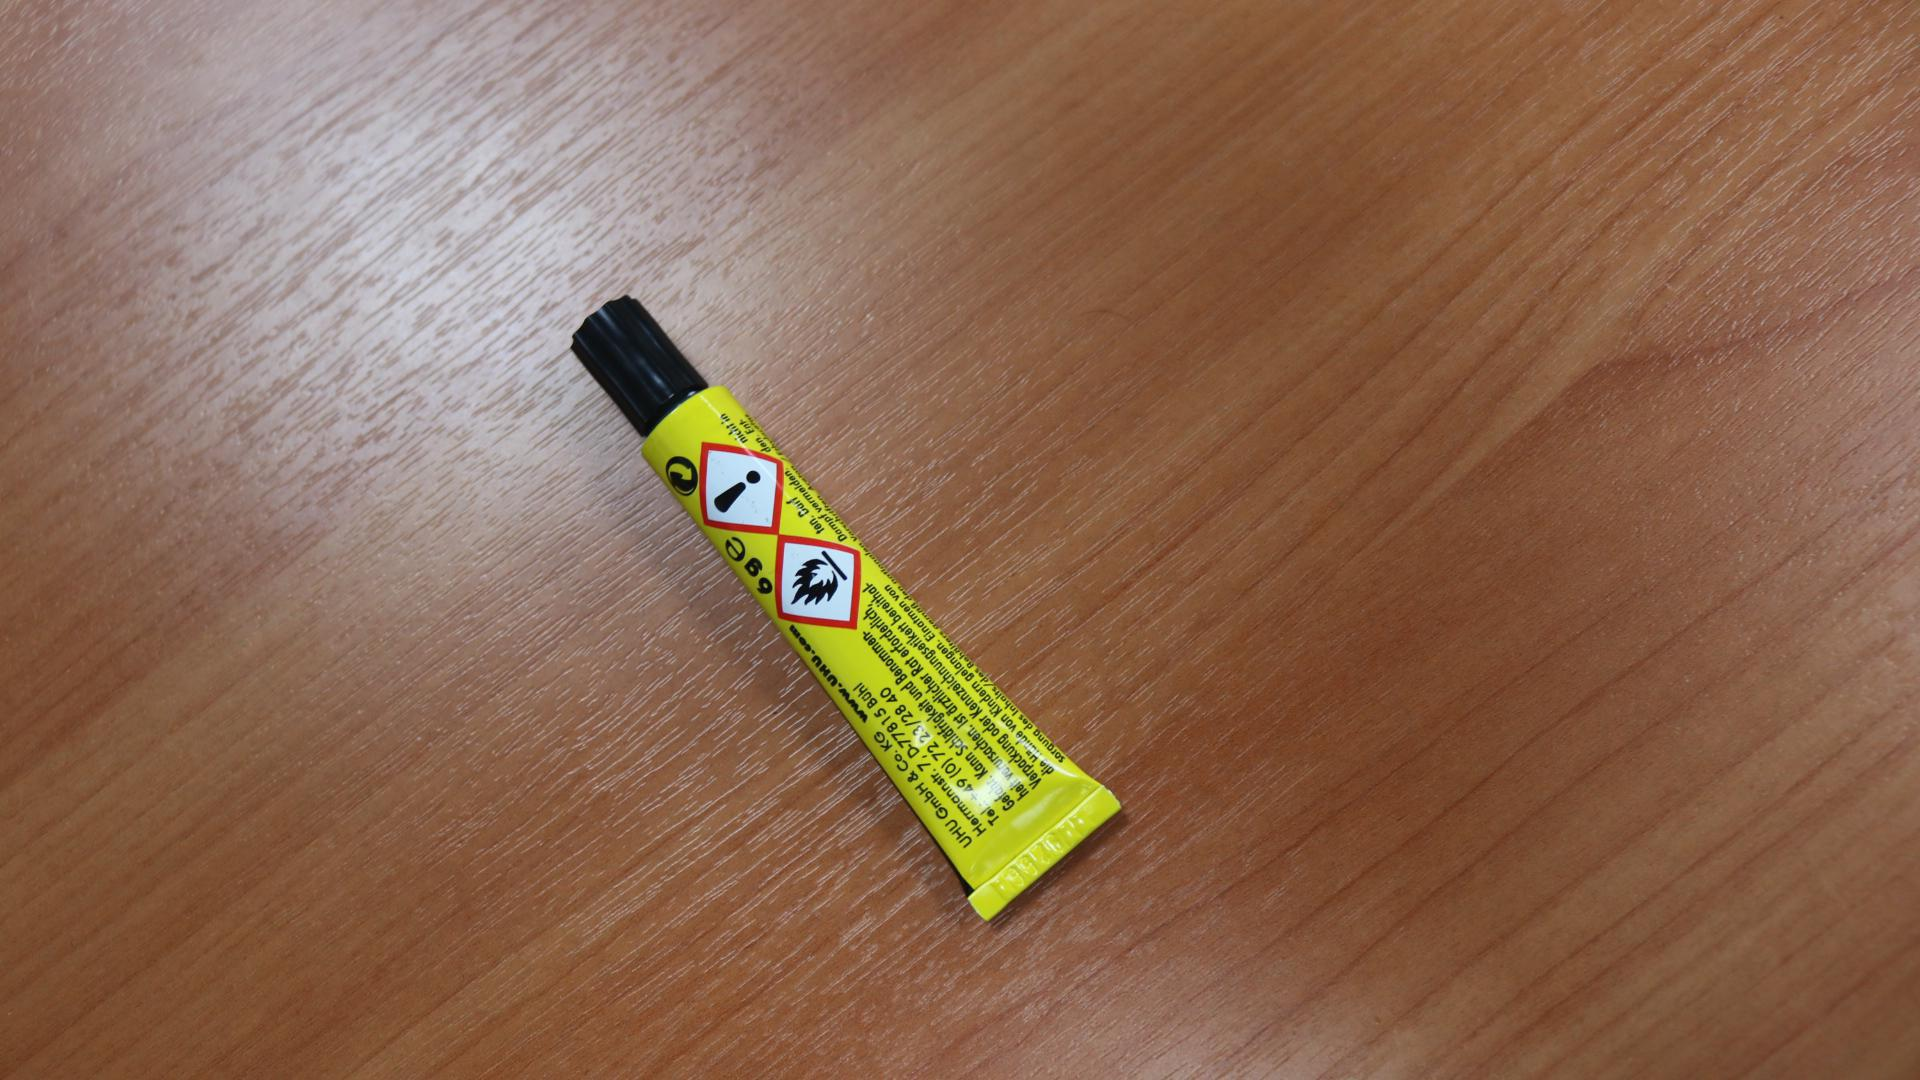Head: (626, 352, 649, 375)
Tail: (1029, 847, 1055, 871)
Tube: (574, 297, 1121, 922)
